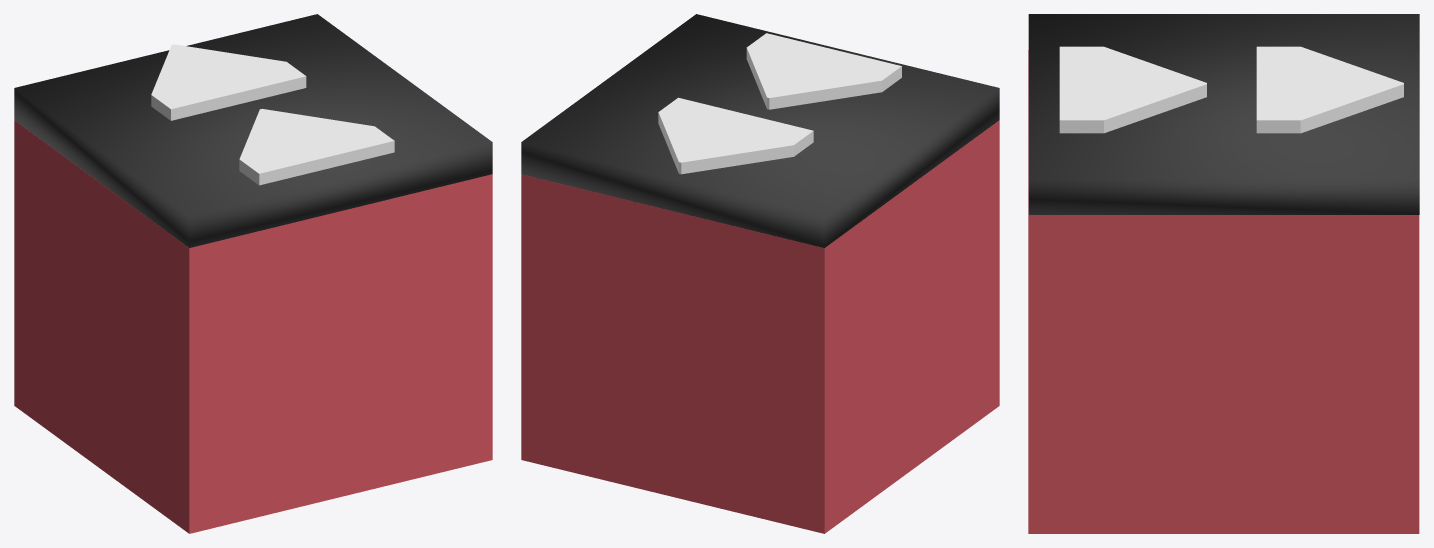
The model's file is DeliverStand.fbx.
3 views of the same model, side by side, from view 1: azimuth 30°, elevation 25°; view 2: azimuth 150°, elevation 25°; view 3: azimuth 270°, elevation 25° (orthographic). The views are drawn at different scales.
Parts seen in each view (by area): view 1: Cube.001; view 2: Cube.001; view 3: Cube.001.
Boxes of the visible parts, <box> form: Cube.001: <box>14,14,492,533</box>; Cube.001: <box>521,14,999,533</box>; Cube.001: <box>1028,14,1419,533</box>.
Size of the model in its own units: 1.56 by 1.62 by 1.56.
